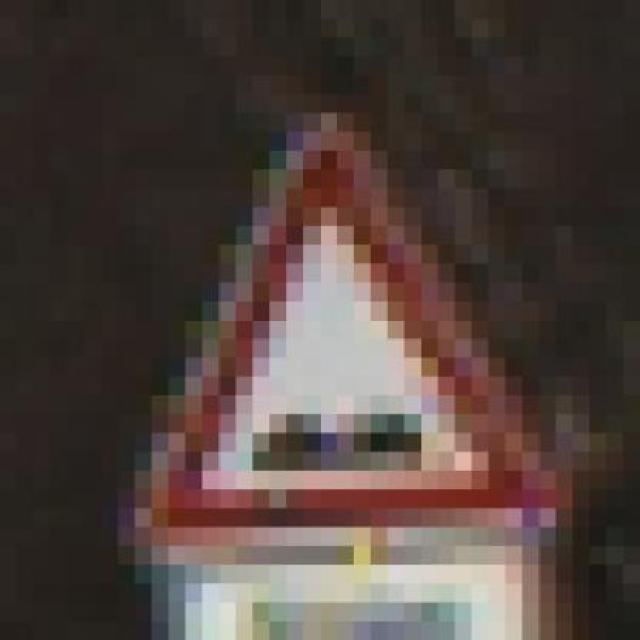Uneven Road: (135, 76, 556, 546)
